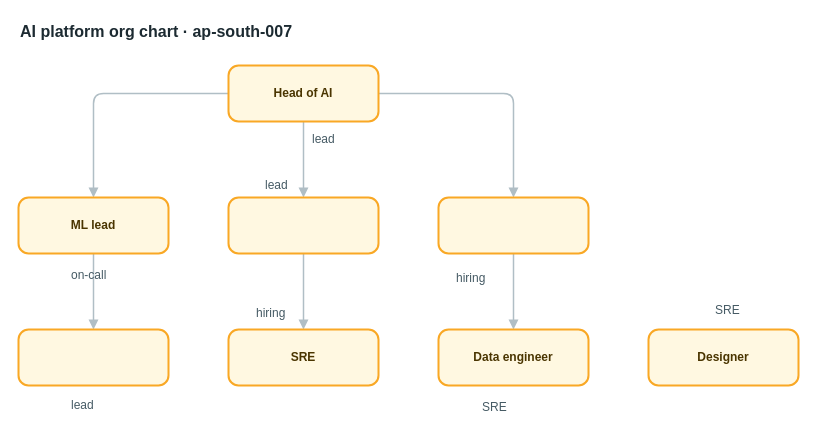
Some shapes in this 816 by 432 pixel diagram are drawn without their labels. The centre of each missing label's shape, as x and y in pixels:
"Data lead" goes at point (513, 225).
"Infra lead" goes at point (303, 225).
"Researcher" goes at point (93, 357).
